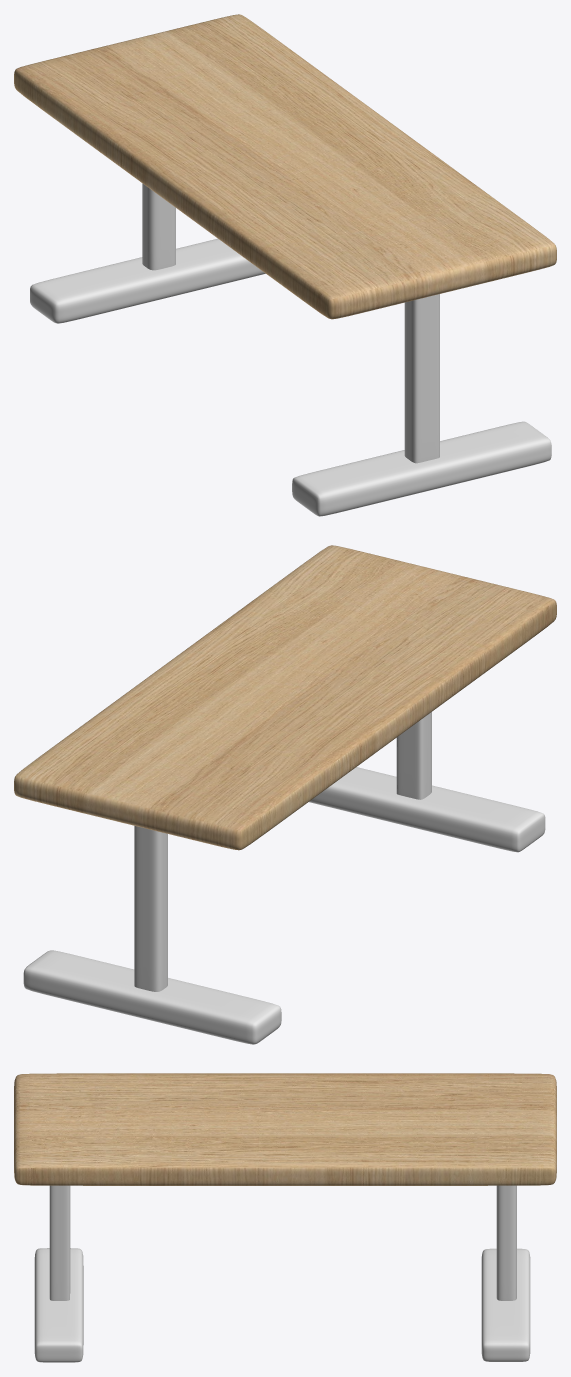
Rendered from standingdesk.glb.
3 views of the same model, one above another, from view 1: azimuth 30°, elevation 25°; view 2: azimuth 150°, elevation 25°; view 3: azimuth 270°, elevation 25° (orthographic). The views are drawn at different scales.
Visible parts, largest first — view 1: wall.001, wall.002, wall.003; view 2: wall.001, wall.003, wall.002; view 3: wall.001, wall.002, wall.003.
Boxes of the visible parts, bbox=[...] form: wall.001: bbox=[14, 14, 556, 319]; wall.002: bbox=[292, 294, 551, 516]; wall.003: bbox=[30, 183, 265, 323]; wall.001: bbox=[14, 545, 556, 850]; wall.003: bbox=[23, 826, 281, 1044]; wall.002: bbox=[309, 712, 545, 852]; wall.001: bbox=[14, 1073, 556, 1185]; wall.002: bbox=[34, 1185, 83, 1362]; wall.003: bbox=[481, 1185, 530, 1361].
Bounding box in the file's own units: 0.4863 × 0.4549 × 1.15.
Materials: 3 (1 with a texture image).
